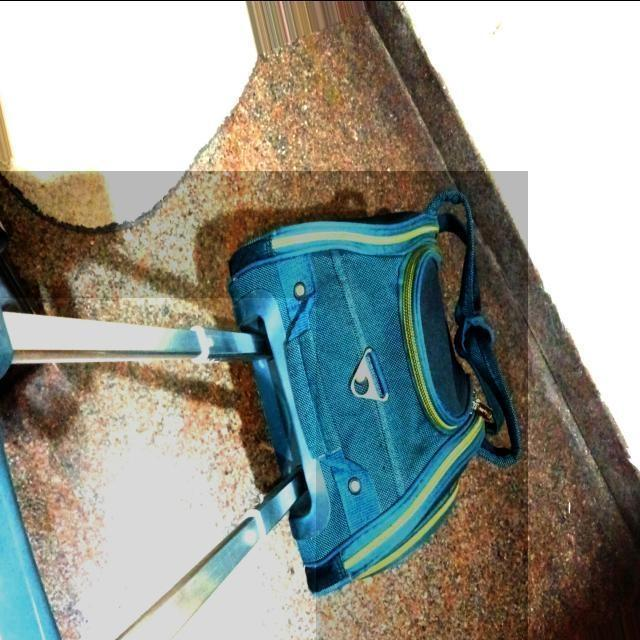Suitcase: (0, 179, 537, 640)
